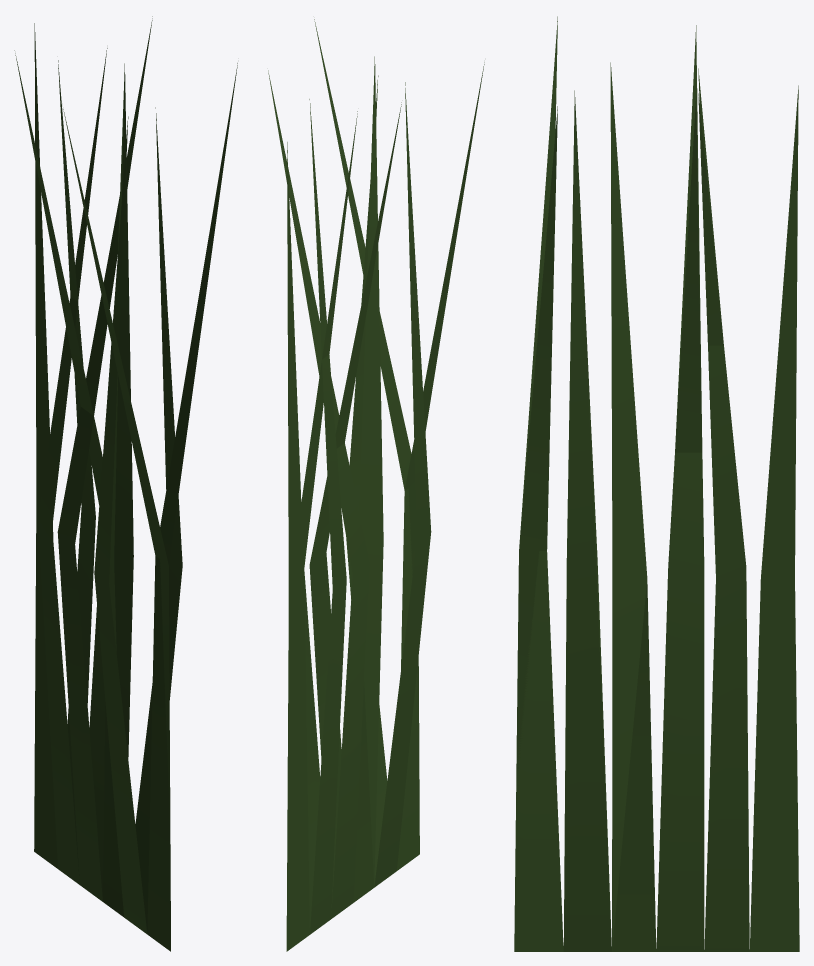
Rendered from M_tallGrass.fbx.
3 renders of one model, left to right at view 1: azimuth 30°, elevation 25°; view 2: azimuth 150°, elevation 25°; view 3: azimuth 270°, elevation 25°, orthographic. The views are drawn at different scales.
Visible parts, largest first — view 1: pasted__leaf_low9, pasted__leaf_low7; view 2: pasted__leaf_low9, pasted__leaf_low7; view 3: pasted__leaf_low7, pasted__leaf_low9.
Boxes of the visible parts, x1,y1,x2,y2 form: pasted__leaf_low9: [14, 23, 237, 951]; pasted__leaf_low7: [34, 16, 182, 932]; pasted__leaf_low9: [287, 19, 431, 940]; pasted__leaf_low7: [268, 56, 484, 951]; pasted__leaf_low7: [514, 16, 798, 951]; pasted__leaf_low9: [516, 25, 799, 951].
Bounding box in the file's own units: 6.82 × 31.55 × 9.14.
